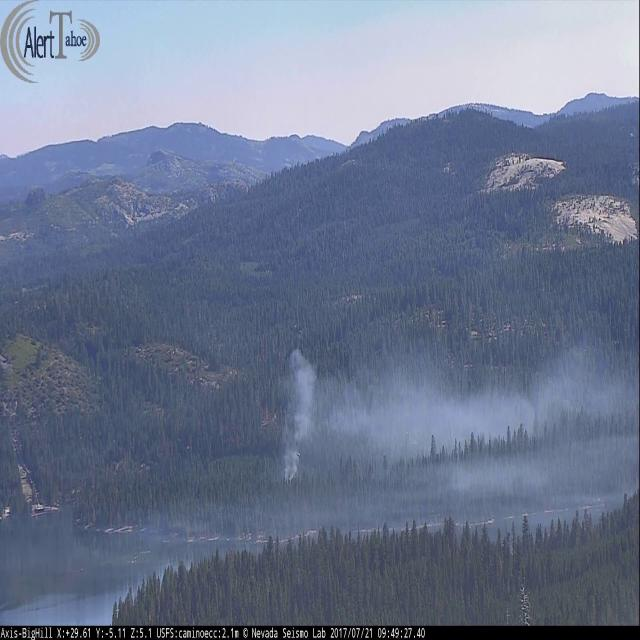smoke: (280, 343, 640, 487), (133, 487, 640, 560)
